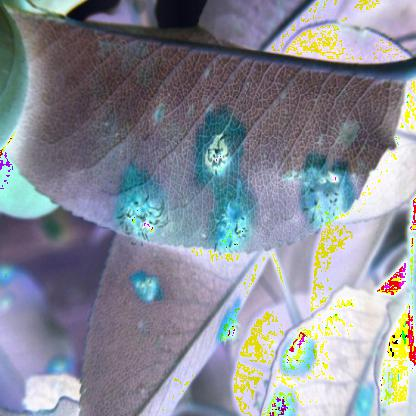apple rust leaf: (26, 5, 415, 266)
